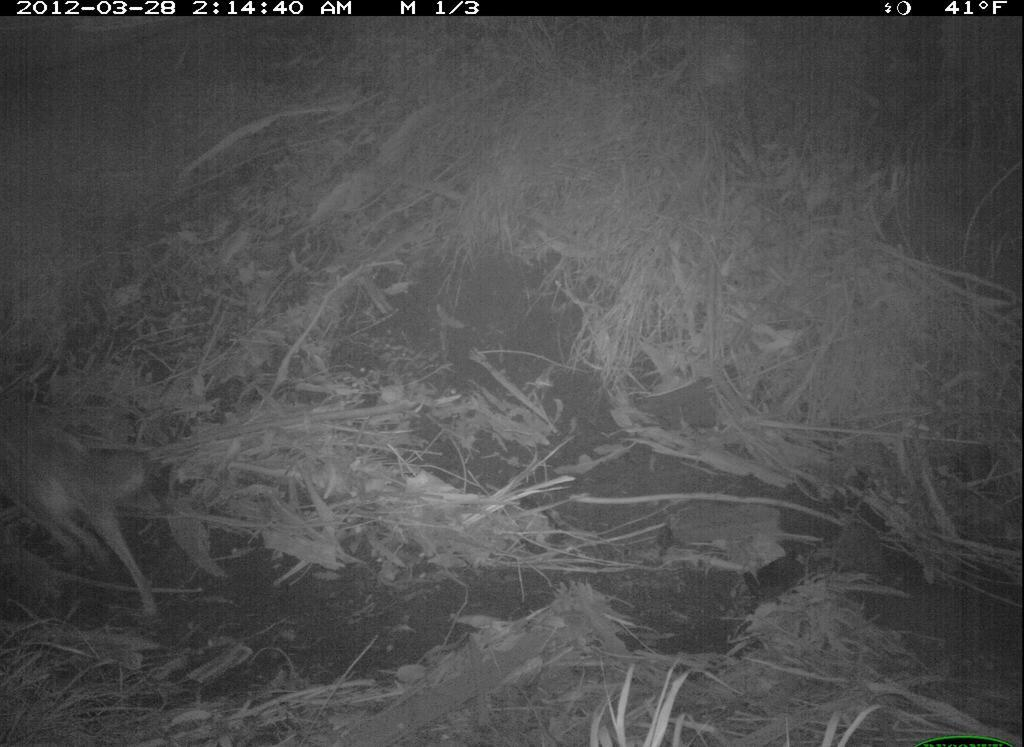coyote: (4, 408, 167, 624)
